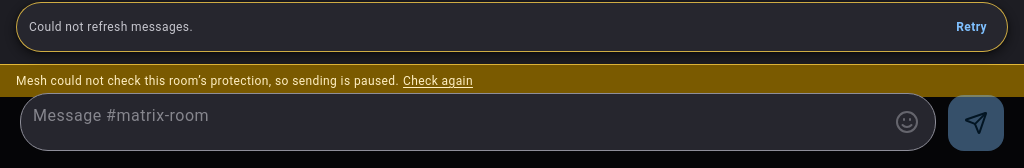
Test: ChatView channel switching › surfaces an event-refresh failure with last-good messages and recovers on retry
Click the button "Retry": x=972, y=27 [948,11,995,43]
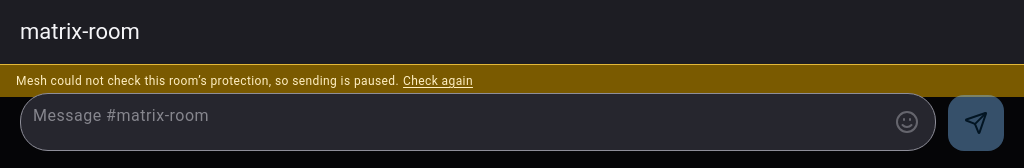
Expected: the text "Could not refresh messages." is gone
